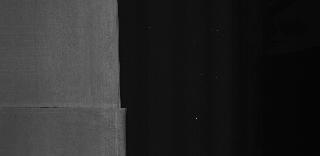welding line: (1, 101, 130, 115)
